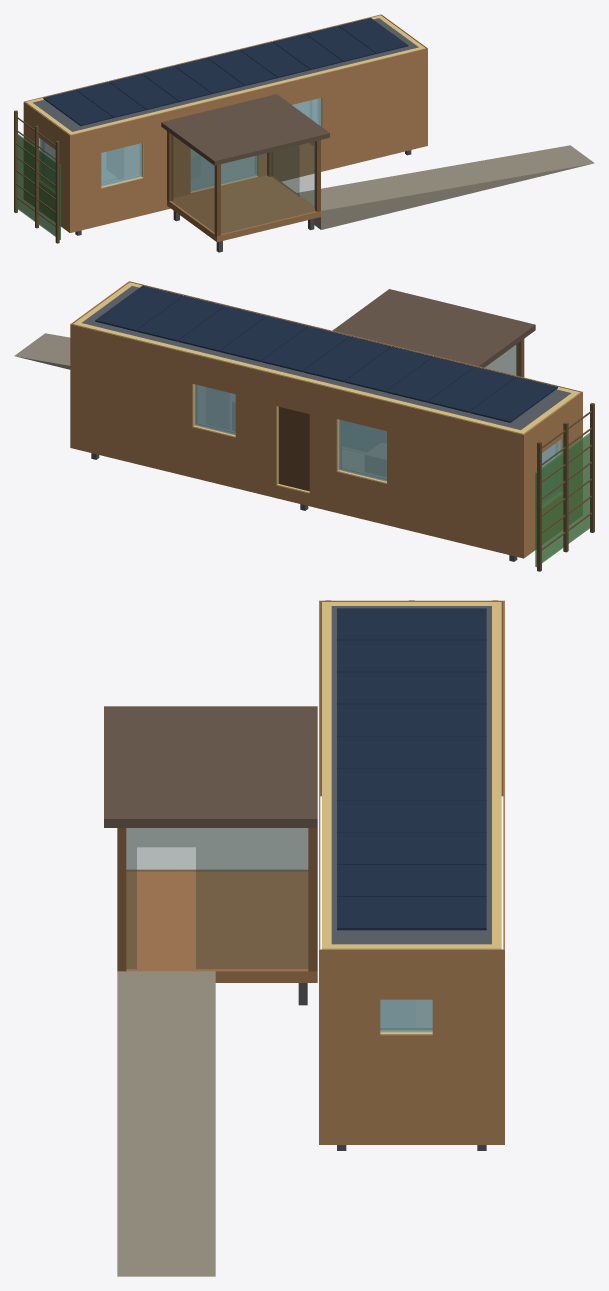
Rendered from cabin-a.obj.
3 views of the same model, one above another, from view 1: azimuth 30°, elevation 25°; view 2: azimuth 150°, elevation 25°; view 3: azimuth 270°, elevation 25° (orthographic). The views are drawn at different scales.
Visible parts, largest first — view 1: south_rainscreen, main_pv, ramp_porch-ramp, porch_screened-porch_roof, porch_screened-porch_screen_south, porch_screened-porch_deck, porch_screened-porch_screen_west, west_rainscreen, trellis_planting, main_roof-membrane, south_ext-insulation, opening_D2 (+8 smaller); view 2: north_rainscreen, main_pv, porch_screened-porch_roof, west_rainscreen, trellis_planting, main_roof-membrane, north_ext-insulation, opening_W3, opening_D1, trellis_posts, opening_W5, ramp_porch-ramp (+7 smaller); view 3: main_pv, east_rainscreen, ramp_porch-ramp, porch_screened-porch_roof, porch_screened-porch_deck, porch_screened-porch_screen_east, porch_screened-porch_screen_west, main_roof-membrane, north_ext-insulation, south_ext-insulation, porch_screened-porch_posts, opening_W6 (+5 smaller).
Part boxes in pixels (box(x1,y1,x2,y2)): south_rainscreen: box(69, 48, 427, 232); main_pv: box(43, 18, 408, 126); ramp_porch-ramp: box(297, 145, 594, 229); porch_screened-porch_roof: box(161, 94, 329, 165); porch_screened-porch_screen_south: box(221, 141, 315, 233); porch_screened-porch_deck: box(167, 175, 320, 242); porch_screened-porch_screen_west: box(171, 134, 214, 232); west_rainscreen: box(24, 102, 69, 232); trellis_planting: box(18, 134, 60, 239); main_roof-membrane: box(33, 18, 418, 131); south_ext-insulation: box(68, 46, 425, 192); opening_D2: box(190, 149, 256, 191); north_rainscreen: box(70, 324, 524, 558); main_pv: box(95, 285, 557, 422); porch_screened-porch_roof: box(333, 289, 535, 367); west_rainscreen: box(524, 392, 582, 557); trellis_planting: box(535, 432, 589, 567); main_roof-membrane: box(82, 286, 571, 429); north_ext-insulation: box(73, 321, 526, 492); opening_W3: box(338, 419, 386, 481); opening_D1: box(278, 407, 309, 491); trellis_posts: box(537, 403, 594, 571); opening_W5: box(194, 384, 235, 435); ramp_porch-ramp: box(14, 333, 70, 369); main_pv: box(337, 608, 486, 930); east_rainscreen: box(320, 949, 503, 1144); ramp_porch-ramp: box(117, 971, 215, 1276); porch_screened-porch_roof: box(104, 706, 317, 827); porch_screened-porch_deck: box(126, 869, 317, 982); porch_screened-porch_screen_east: box(126, 828, 307, 968); porch_screened-porch_screen_west: box(126, 828, 307, 871); main_roof-membrane: box(331, 606, 491, 944); north_ext-insulation: box(492, 602, 501, 949); south_ext-insulation: box(322, 602, 331, 949); porch_screened-porch_posts: box(117, 828, 317, 971); opening_W6: box(380, 999, 432, 1032).
Size of the model in its own units: 17.08 by 3.7 by 6.1.
